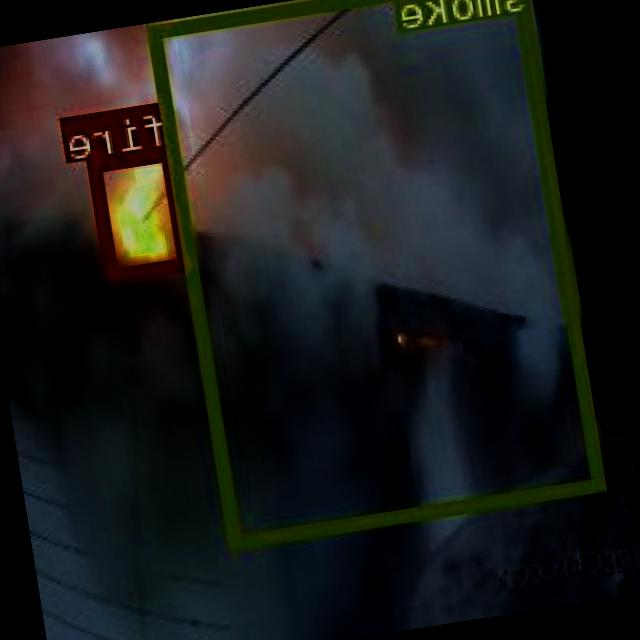fire: (90, 146, 195, 280)
smoke: (151, 0, 609, 546)
